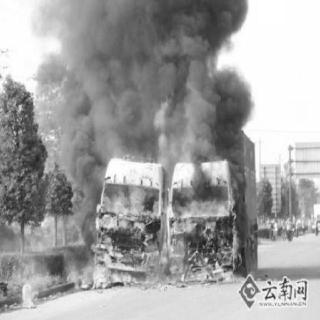Smoke: (39, 1, 242, 174)
